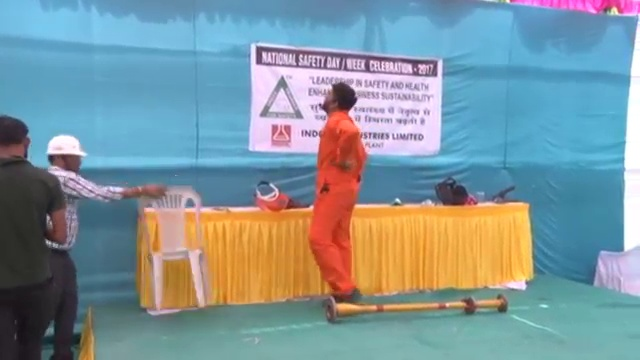helmet: (45, 131, 90, 159)
helmet_off: (1, 113, 29, 161), (321, 83, 358, 114)
helmet_on: (43, 130, 91, 173)
person: (40, 130, 169, 360), (1, 117, 67, 360), (305, 81, 367, 306)
